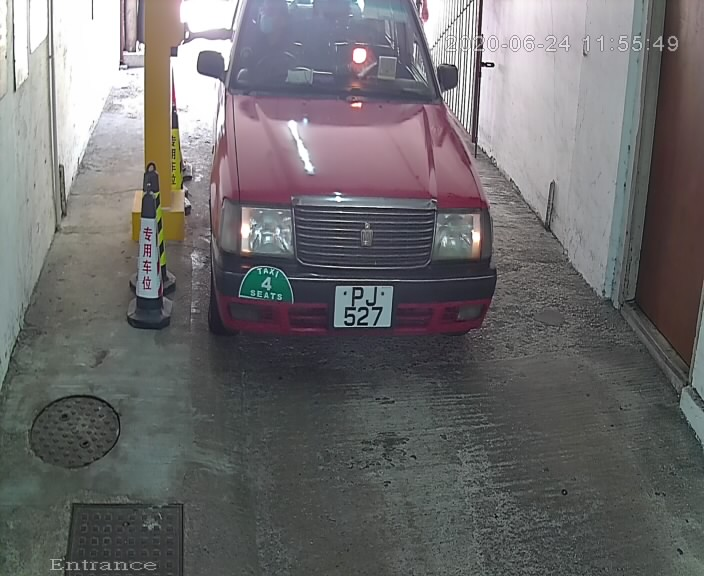Car: (186, 1, 505, 387)
License Plate: (326, 280, 402, 335)
